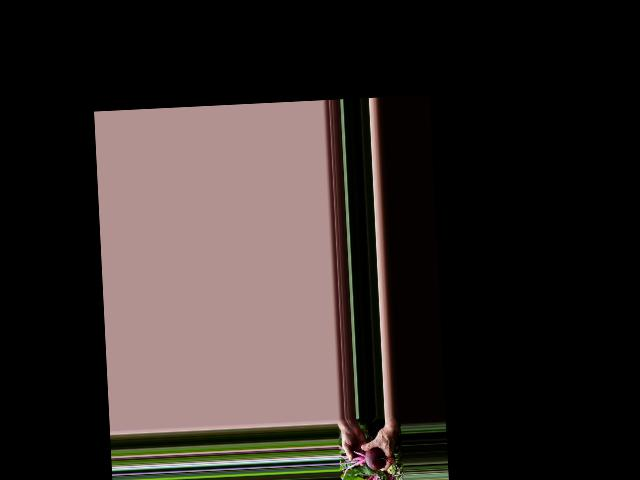beet: (339, 445, 387, 480)
